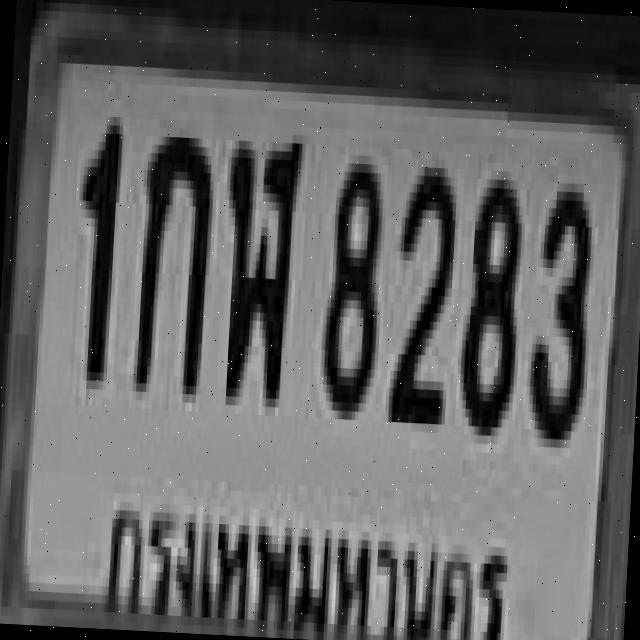1: (70, 111, 120, 377)
10GorGai: (133, 127, 213, 386)
2: (386, 157, 456, 416)
3: (524, 174, 591, 440)
51LorChula: (216, 127, 300, 395)
8: (454, 170, 522, 428), (319, 154, 382, 412)
Bangkok: (95, 492, 517, 640)
